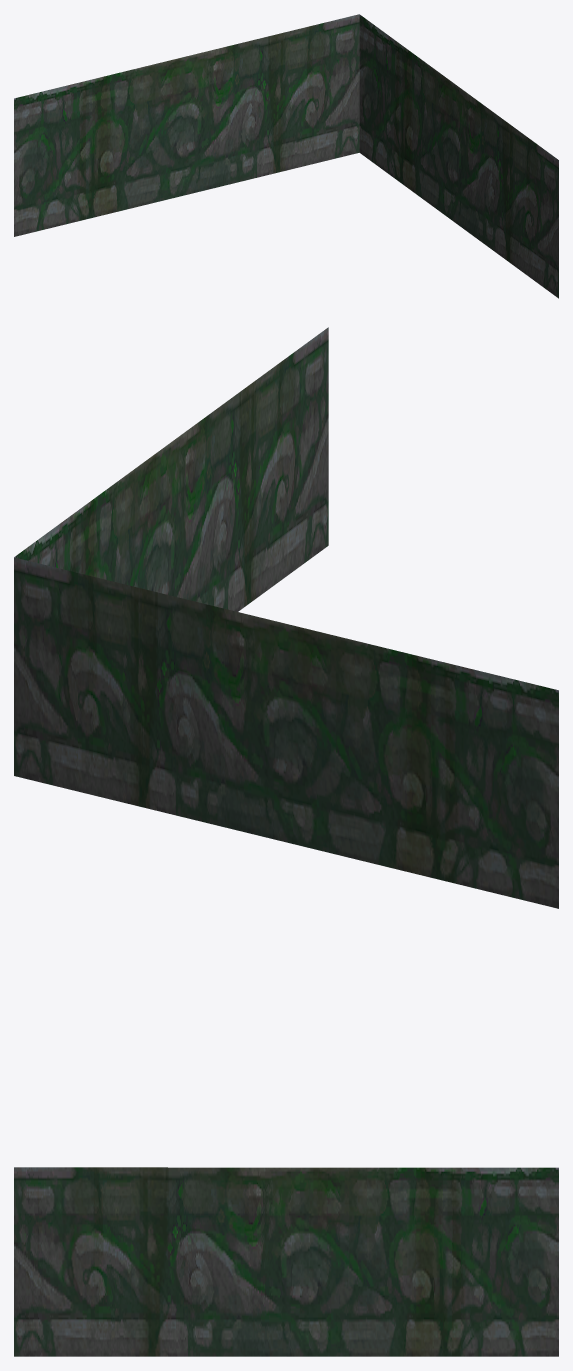
Rendered from stemple_quarter_concave_02.fbx.
3 views of the same model, one above another, from view 1: azimuth 30°, elevation 25°; view 2: azimuth 150°, elevation 25°; view 3: azimuth 270°, elevation 25° (orthographic). The views are drawn at different scales.
Visible parts, largest first — view 1: sunken_tileset/sunken_wall_straight02_mat; view 2: sunken_tileset/sunken_wall_straight02_mat; view 3: sunken_tileset/sunken_wall_straight02_mat.
Part boxes in pixels (x1,y1,x2,y2): sunken_tileset/sunken_wall_straight02_mat: (14,14,558,298); sunken_tileset/sunken_wall_straight02_mat: (14,327,558,908); sunken_tileset/sunken_wall_straight02_mat: (14,1167,558,1356).
Size of the model in its own units: 3.59 by 1.38 by 3.59.
